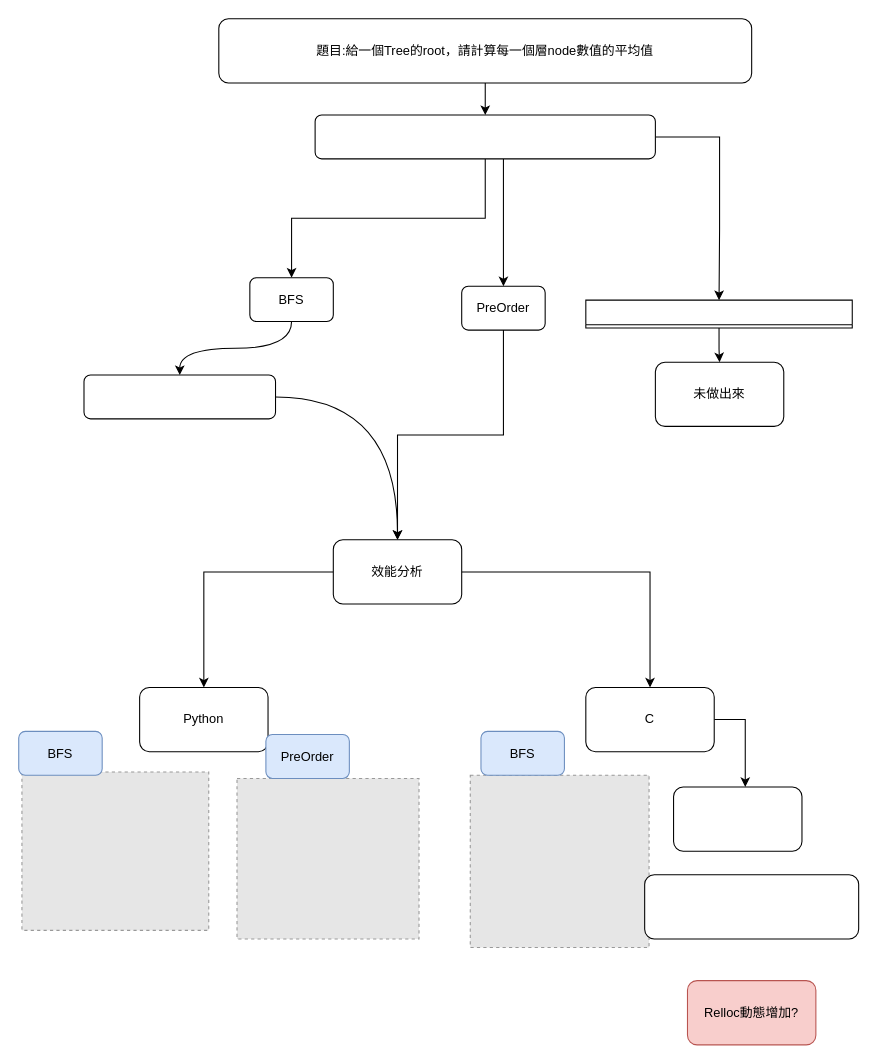
The diagram is 877 pixels wide and 1064 high, and some of its shapes have lost their labels. Grey dashed boxes stand in for pictures. Each missing label, with the centre of its shape:
"一開始Queue的宣告大小，要多少。 太大: 讓費空間 太小: 空間不足" goes at (751,906).
"個別得到每一層的所有node: node數量和數值" goes at (484,136).
"分析" goes at (737,818).
"用PostOrder的方式，得到每個最右邊?" goes at (718,313).
"用queue紀錄，每一層的node，回傳最左邊的node的Values" goes at (179,396).
